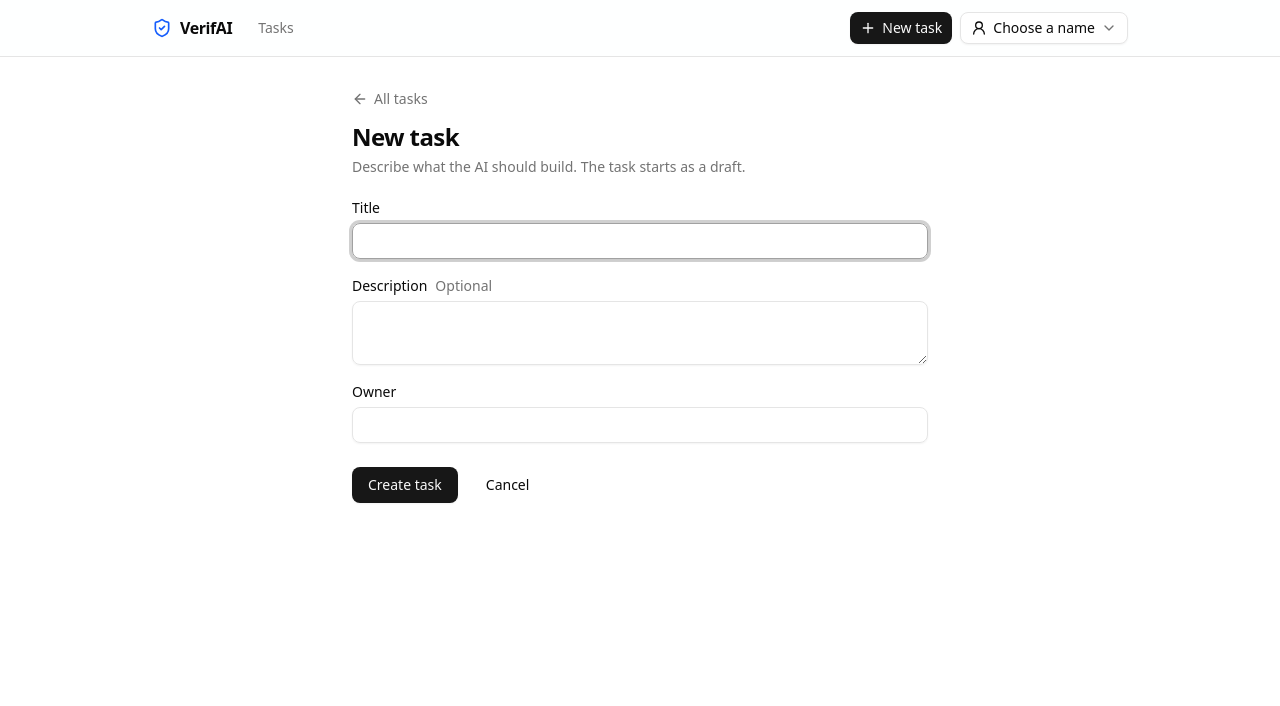
Test: CreateTaskPage › creates the task and opens its details page
Expected: the heading "New task" is shown, [352,120,459,153]
Type "  Add login page " into the field labelled "Title".
click(640, 241); type("  Add login page ")  # box [352,223,928,259]
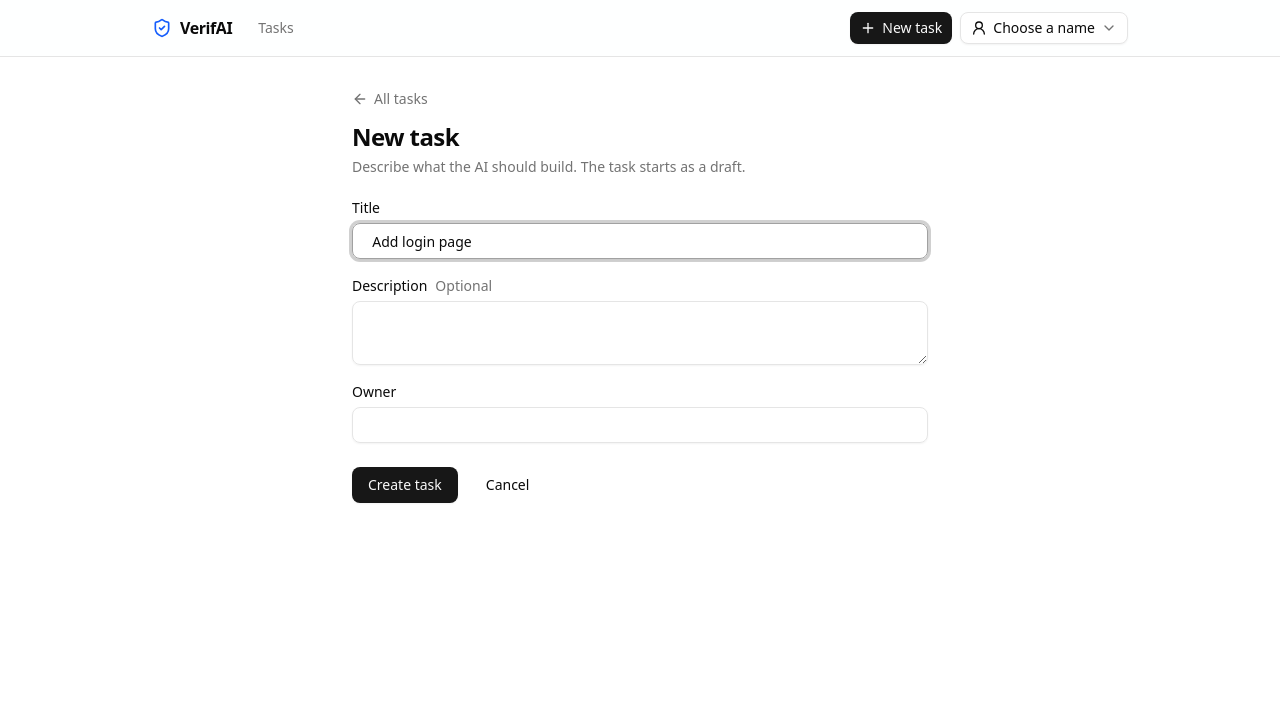
Type "Email and password form" into the text box labelled "Description Optional".
click(640, 333); type("Email and password form")  # box [352,301,928,365]
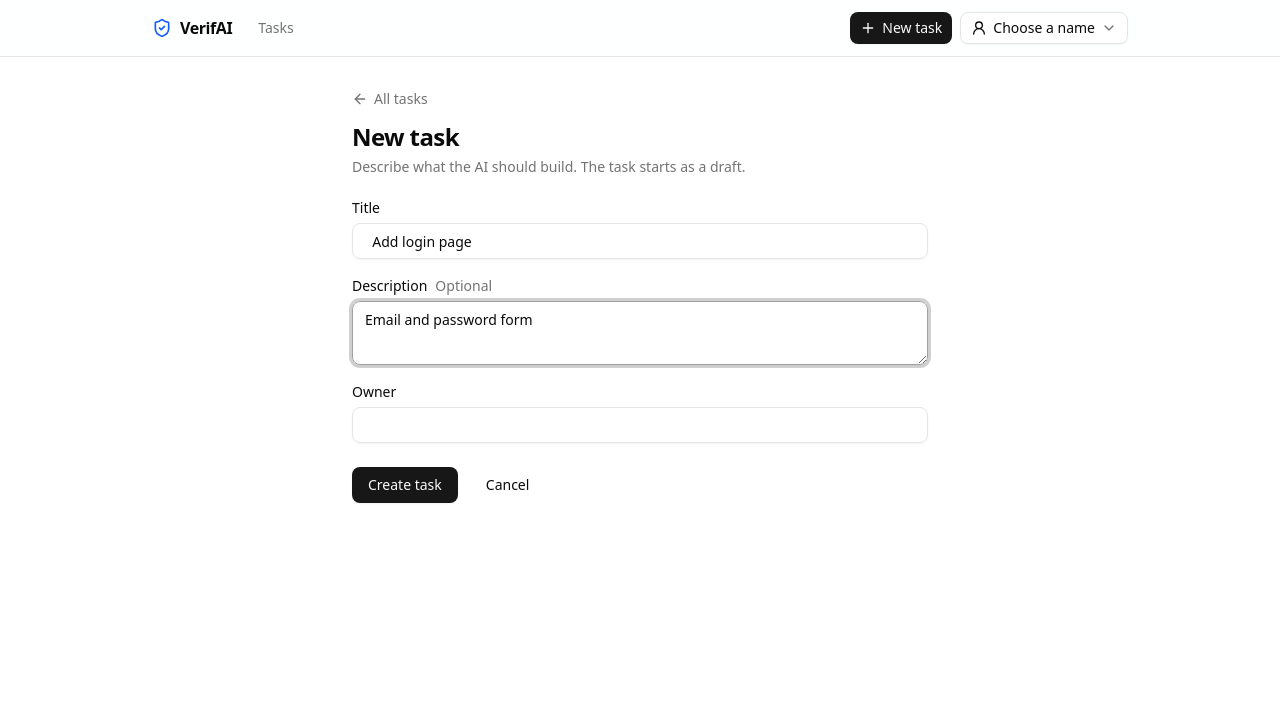
Type "alex" into the field labelled "Owner".
click(640, 425); type("alex")  # box [352,407,928,443]
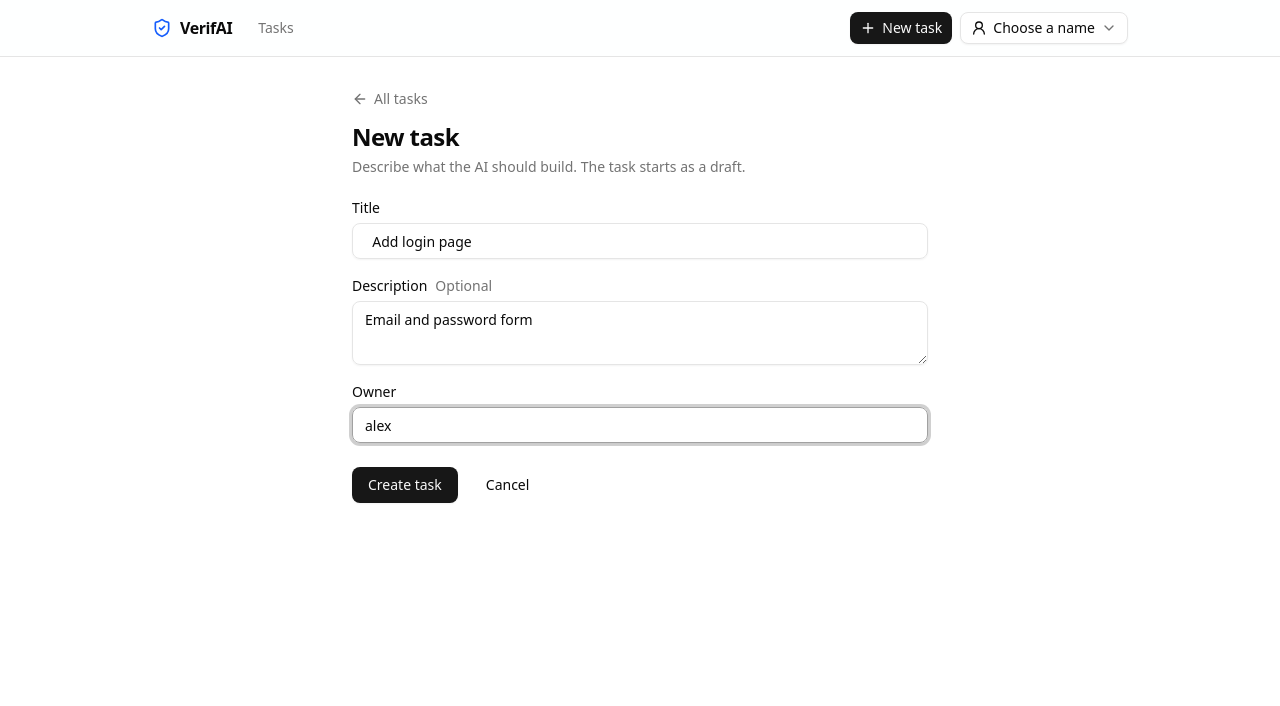
Click the button "Create task".
click(405, 485)  # box [352,467,458,503]
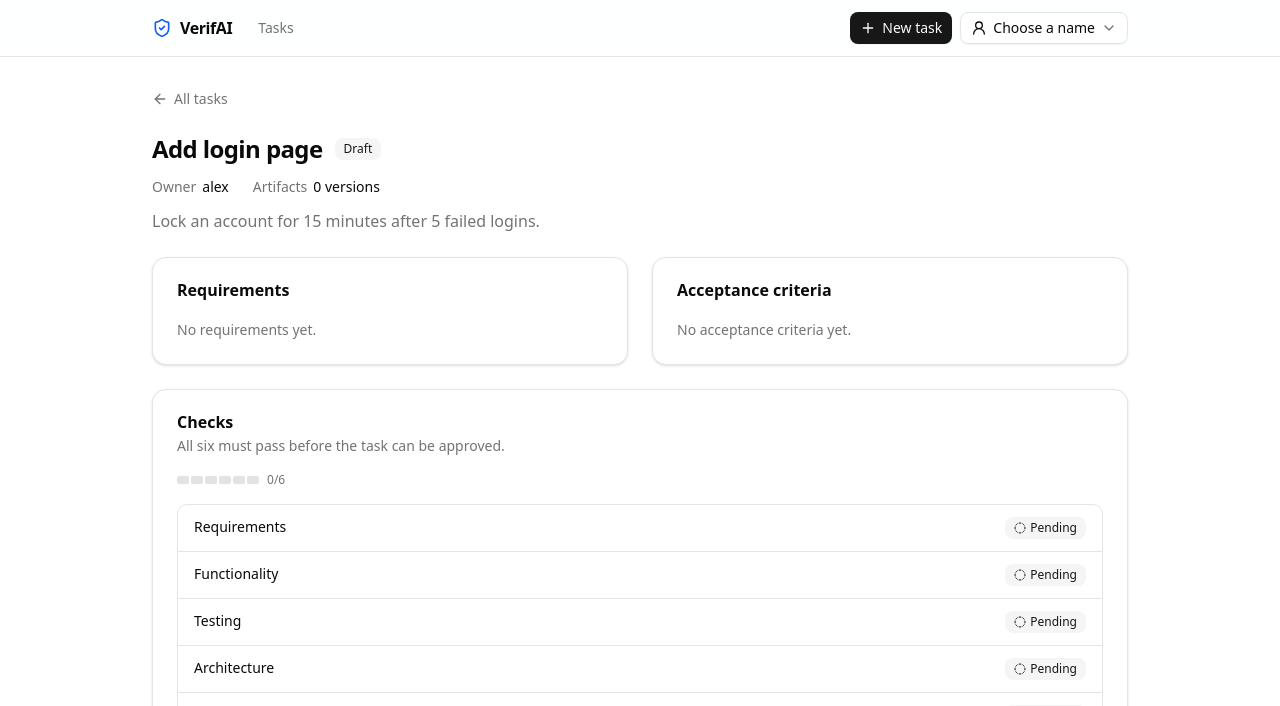
Now the heading "Add login page" is shown, box [152,133,322,165]
